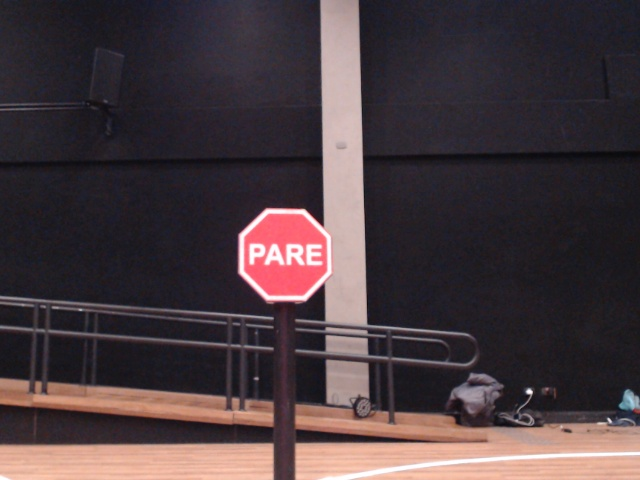SEMAFORO: (219, 193, 365, 328)
